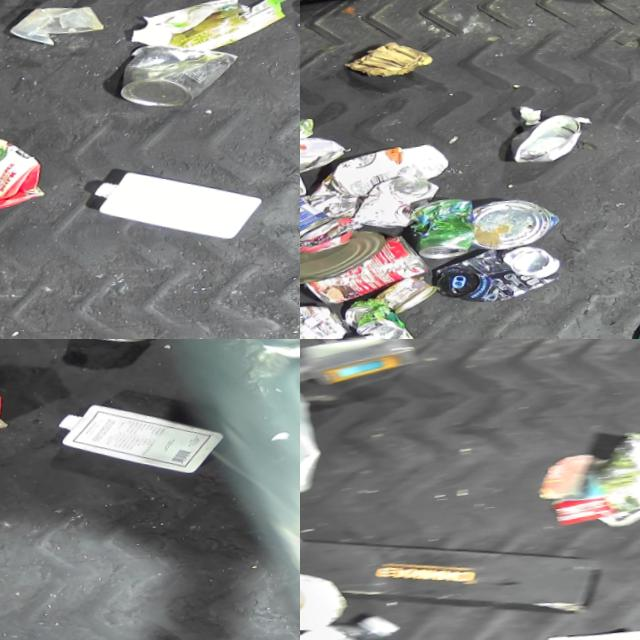can: (302, 224, 439, 308), (118, 29, 249, 112), (435, 233, 569, 306), (300, 220, 392, 288), (352, 168, 448, 232), (473, 187, 567, 250), (409, 192, 484, 260), (510, 105, 592, 163), (345, 290, 423, 339), (300, 169, 341, 261), (377, 269, 444, 314), (300, 129, 352, 178), (300, 295, 356, 339)
milk_jug: (91, 151, 274, 252)
non_white_jug: (0, 107, 62, 220), (300, 380, 334, 521)
plastic_bottle: (300, 603, 415, 640)
